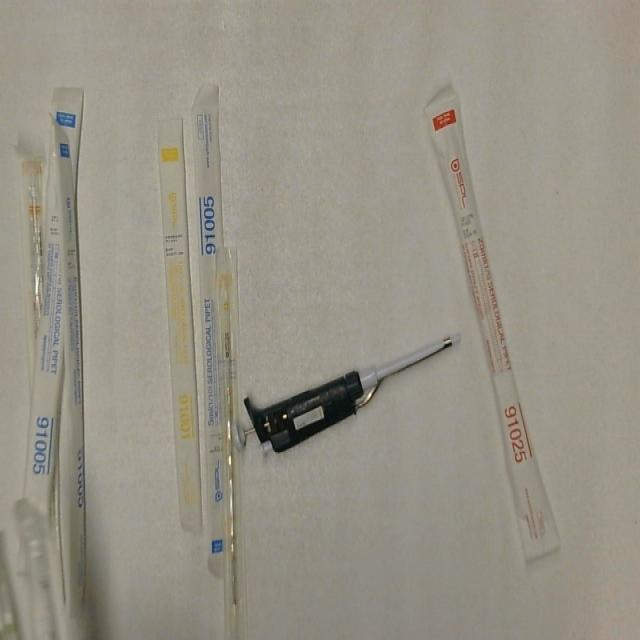Serelogical Pipet 1 mL - Sealed: (153, 112, 203, 539), (212, 240, 249, 640)
Serelogical Pipet 10 mL - Sealed: (22, 145, 47, 382)
Serelogical Pipet 25 mL - Sealed: (422, 85, 561, 567)
Serelogical Pipet 5 mL - Sealed: (21, 82, 87, 517), (50, 112, 96, 640), (188, 78, 236, 583)
Single Channel Pipettor: (228, 328, 464, 460)
